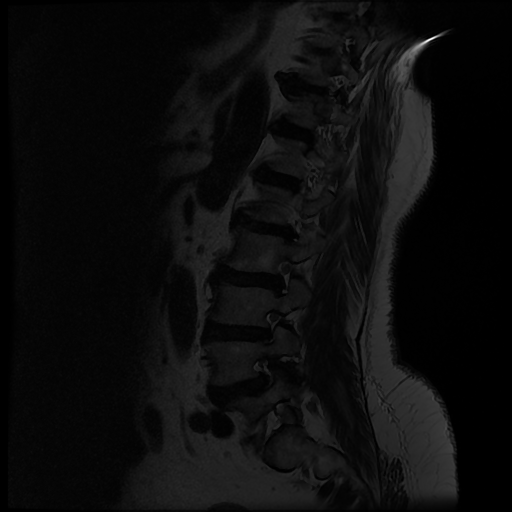LFS0: (242, 351, 286, 399), (260, 250, 301, 300)
LFS1: (249, 302, 291, 350)
